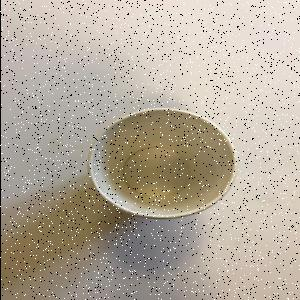Cup: (88, 108, 239, 220)
